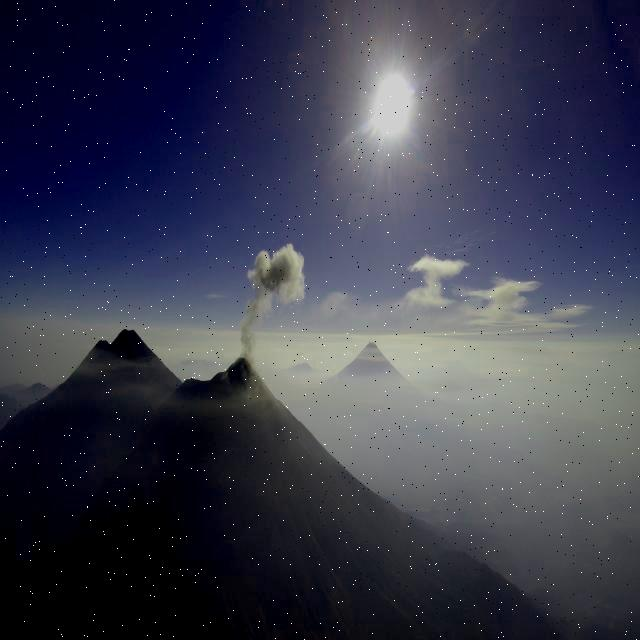Plume: (240, 239, 308, 357)
Summit: (179, 352, 271, 402)
